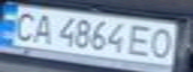4: (106, 20, 130, 55), (54, 15, 78, 48)
6: (90, 19, 112, 52)
8: (72, 17, 93, 51)
A: (27, 11, 57, 45)
C: (6, 9, 42, 43)
E: (124, 22, 157, 58)
O: (145, 26, 181, 60)
